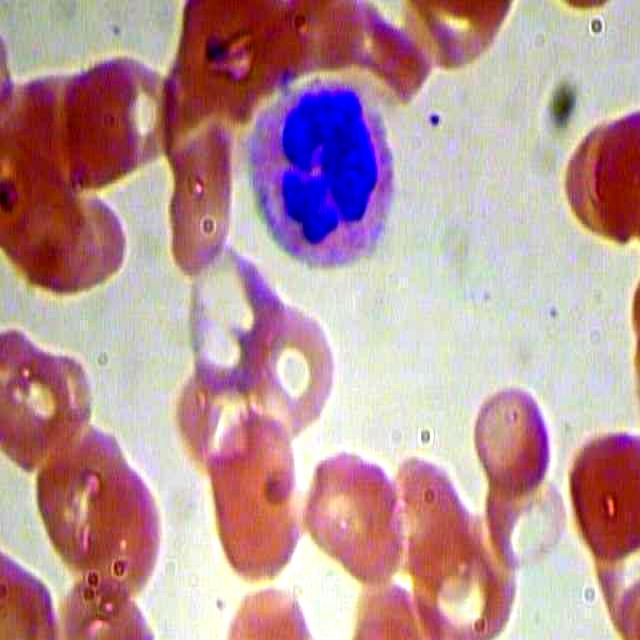RBC: (203, 413, 311, 587), (301, 438, 412, 590), (30, 417, 134, 568), (155, 125, 236, 278), (479, 456, 566, 572), (566, 430, 640, 566), (254, 308, 335, 431), (470, 376, 551, 493)
WBC: (238, 71, 414, 280)
